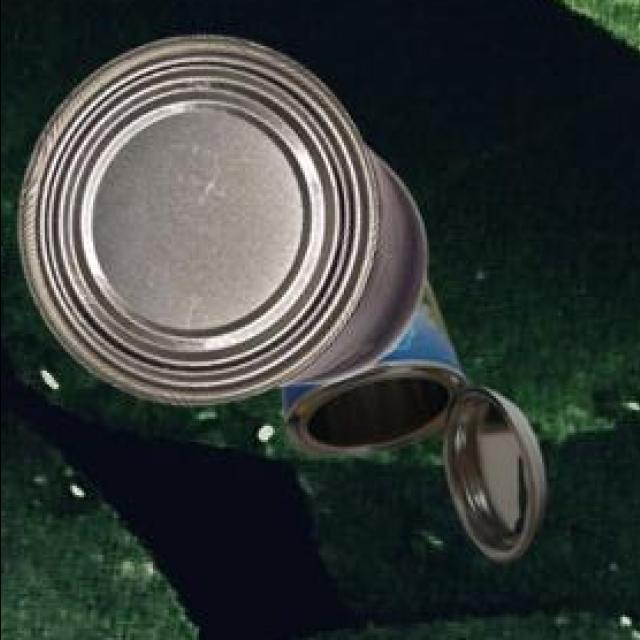logam: (22, 33, 429, 402), (284, 273, 549, 556)
